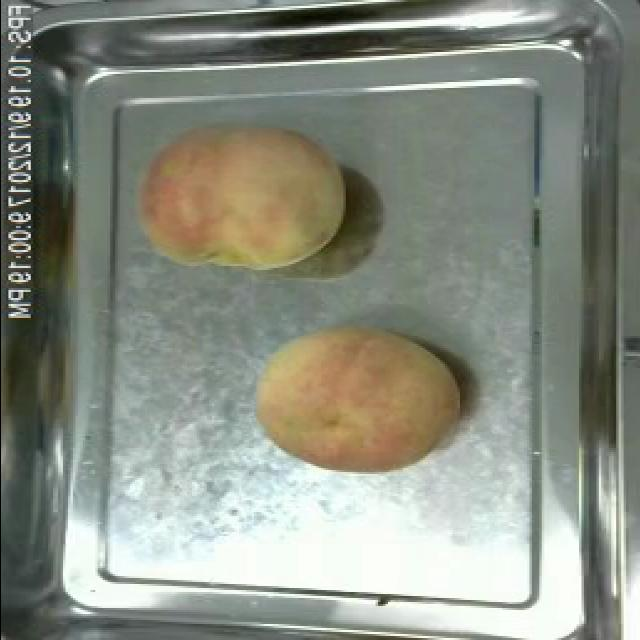Fruit: (126, 112, 352, 280), (243, 316, 464, 484)
